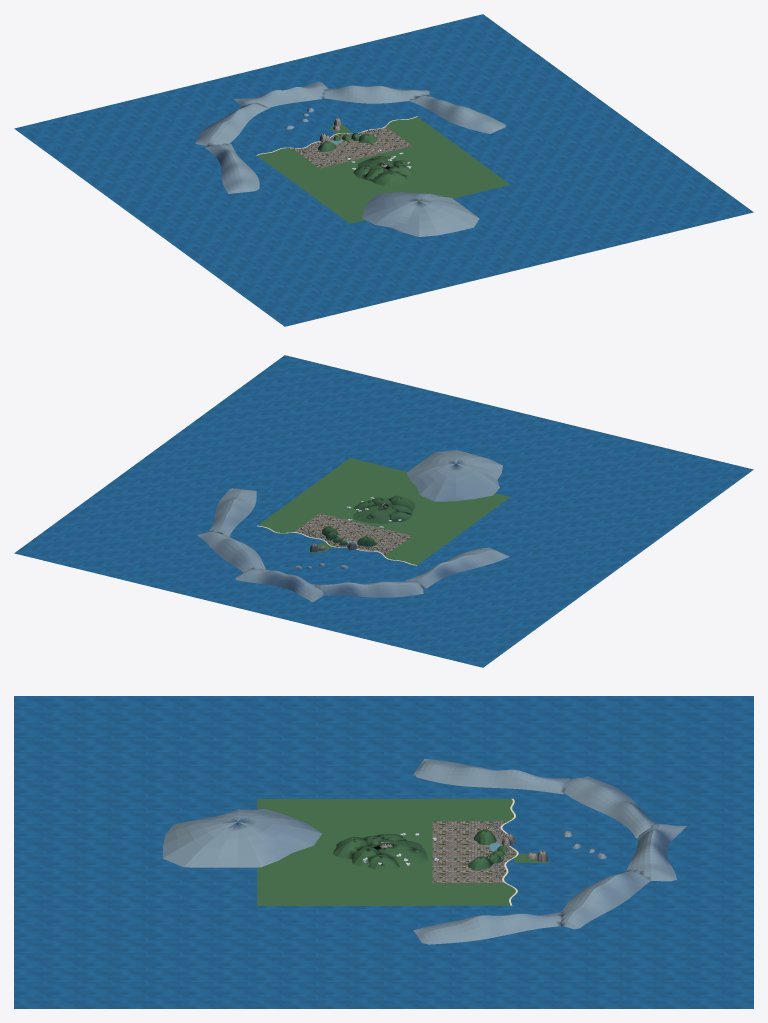
Rendered from lugar-rio.glb.
3 renders of one model, top to bottom at view 1: azimuth 30°, elevation 25°; view 2: azimuth 150°, elevation 25°; view 3: azimuth 270°, elevation 25°, orthographic. The views are drawn at different scales.
Parts seen in each view (by area): view 1: planoF, vert-lejos; view 2: planoF, vert-lejos; view 3: planoF, vert-lejos.
Part boxes in pixels (x1,y1,x2,y2): planoF: (14, 14, 753, 326); vert-lejos: (195, 81, 506, 236); planoF: (14, 355, 753, 667); vert-lejos: (197, 450, 509, 602); planoF: (14, 696, 753, 1008); vert-lejos: (162, 758, 686, 944).
Bounding box in the file's own units: 15200 × 418 × 15200.
Materials: 17 (10 with a texture image).
